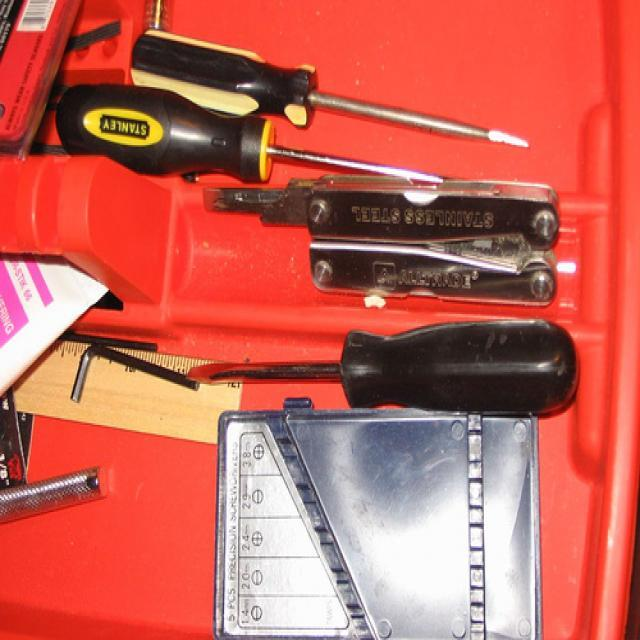screwdriver: (114, 17, 550, 170), (42, 70, 448, 198), (168, 311, 594, 428)
